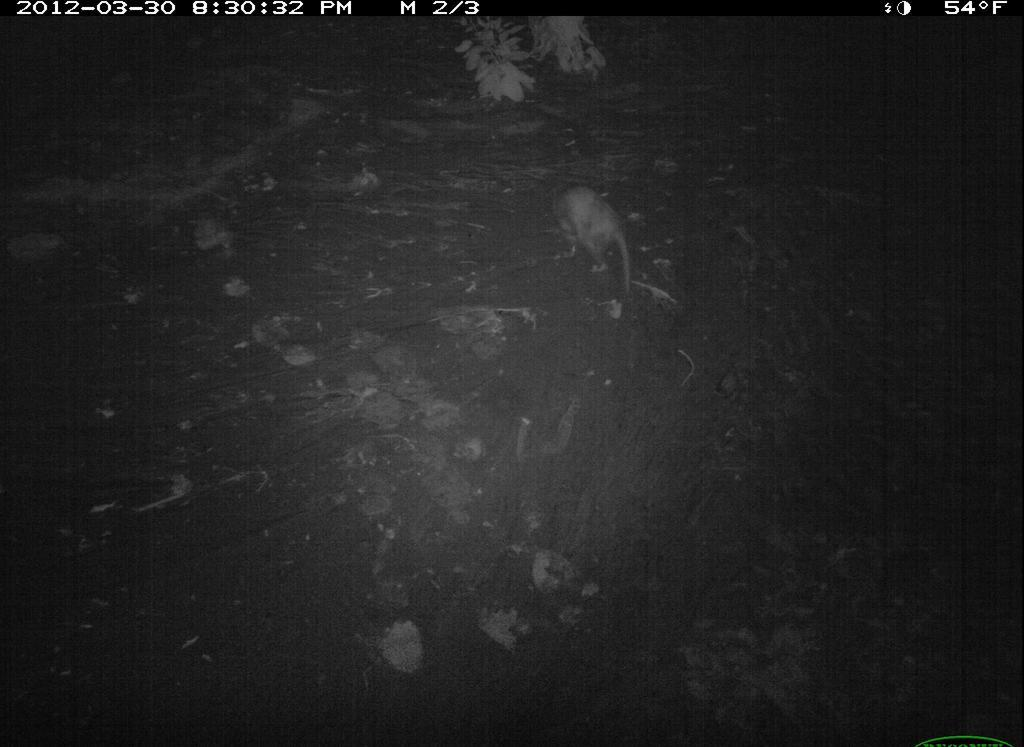opossum: (546, 175, 678, 319)
